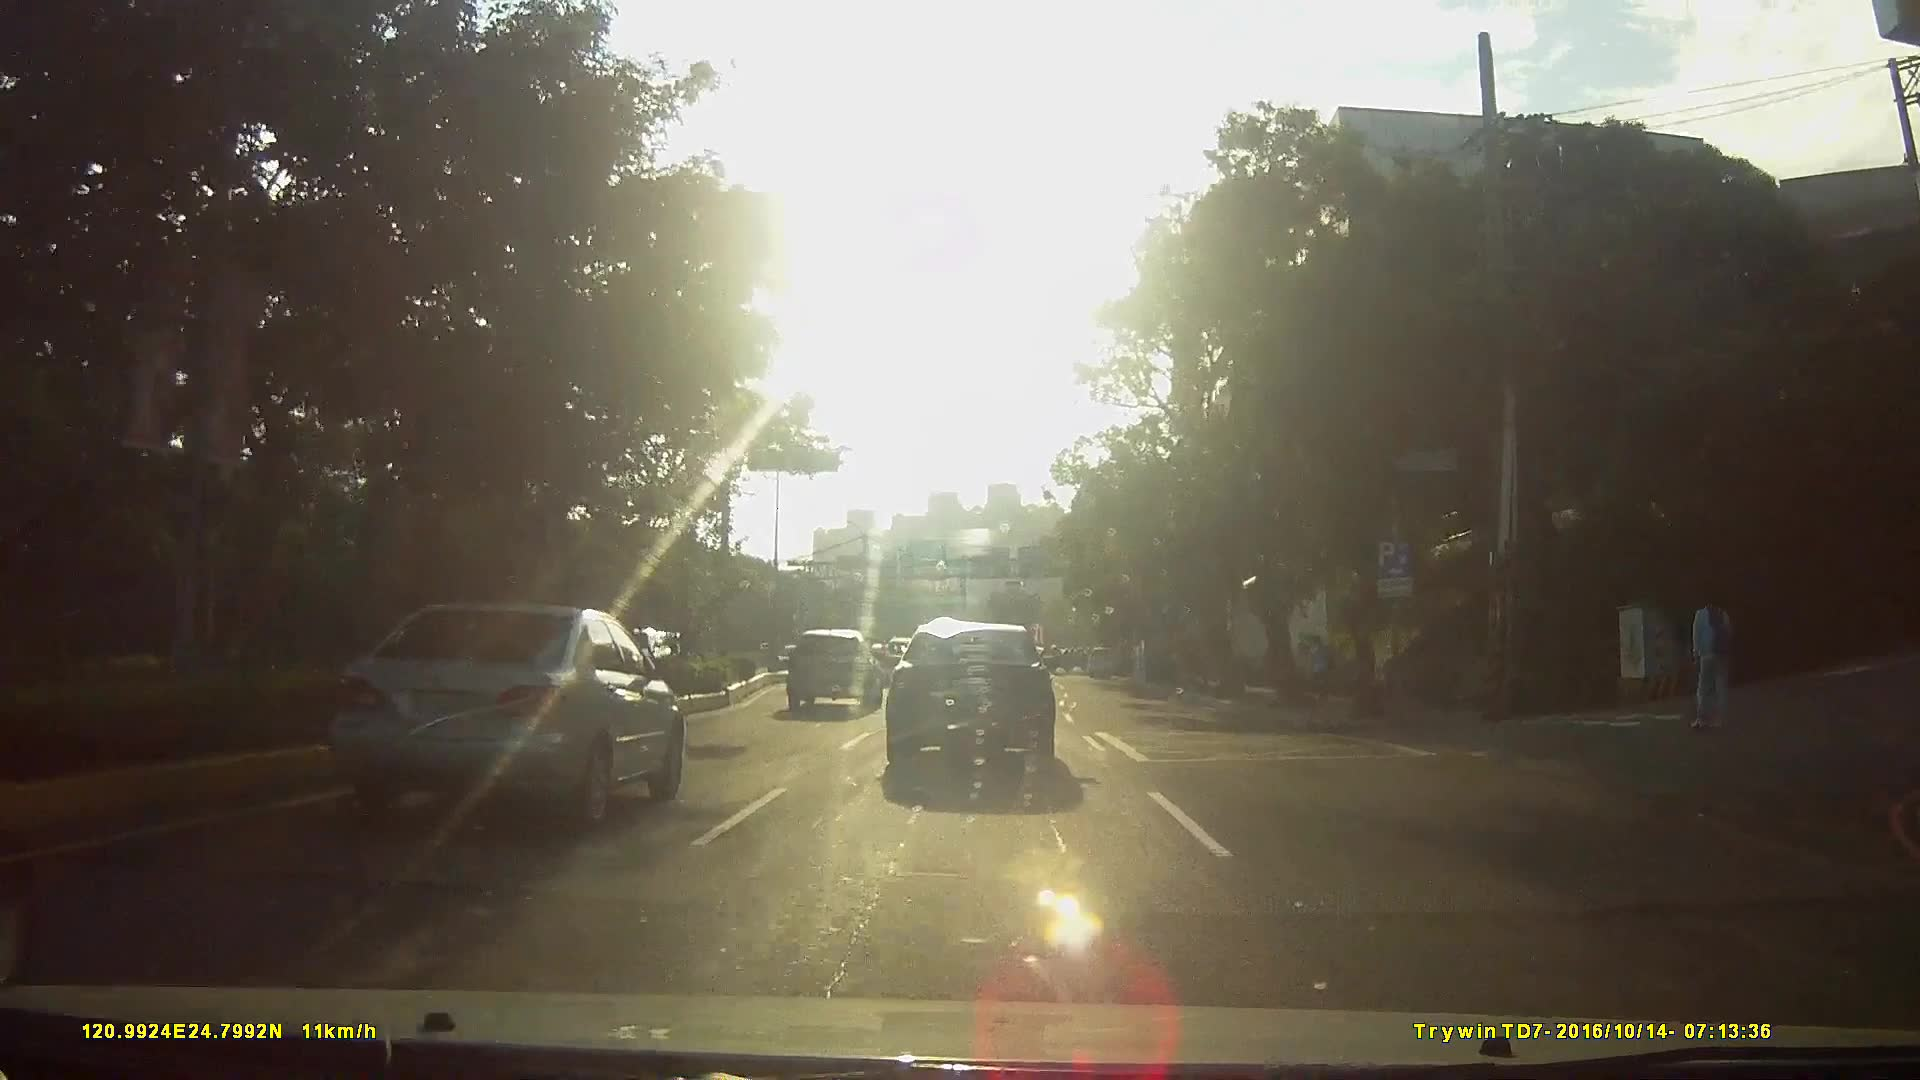pedestrian: (1684, 579, 1742, 733)
vehicle: (335, 598, 686, 822), (873, 617, 1069, 781), (781, 625, 881, 710), (1080, 643, 1115, 677)
